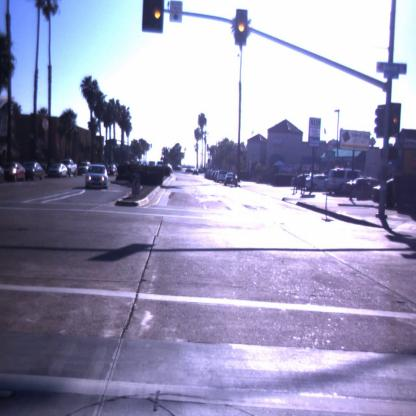trafficlight: (140, 0, 168, 39), (235, 4, 250, 48)
